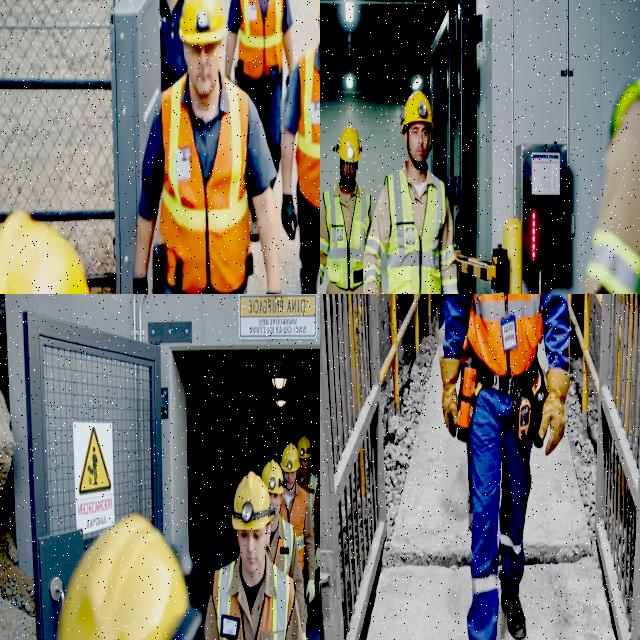Vest: (159, 77, 249, 293), (385, 170, 444, 293), (323, 185, 369, 289), (294, 49, 320, 209), (238, 0, 283, 79), (586, 230, 639, 293), (508, 294, 542, 375), (213, 563, 243, 639), (280, 489, 307, 569), (273, 518, 294, 574), (307, 472, 317, 535)
Worker: (440, 294, 568, 639), (133, 0, 280, 293), (363, 92, 457, 293), (58, 515, 201, 639), (204, 473, 302, 639), (584, 79, 639, 293), (225, 0, 293, 172), (281, 41, 319, 293), (320, 125, 370, 293), (261, 460, 306, 639), (0, 211, 88, 293), (280, 443, 315, 603), (297, 436, 319, 569), (159, 0, 185, 91), (313, 568, 319, 622)
helmet: (57, 515, 200, 639), (0, 212, 88, 293), (232, 472, 274, 530), (179, 0, 225, 44), (401, 91, 432, 132), (332, 125, 361, 162), (261, 460, 283, 494), (280, 442, 300, 473), (297, 436, 311, 458), (318, 0, 319, 12)
